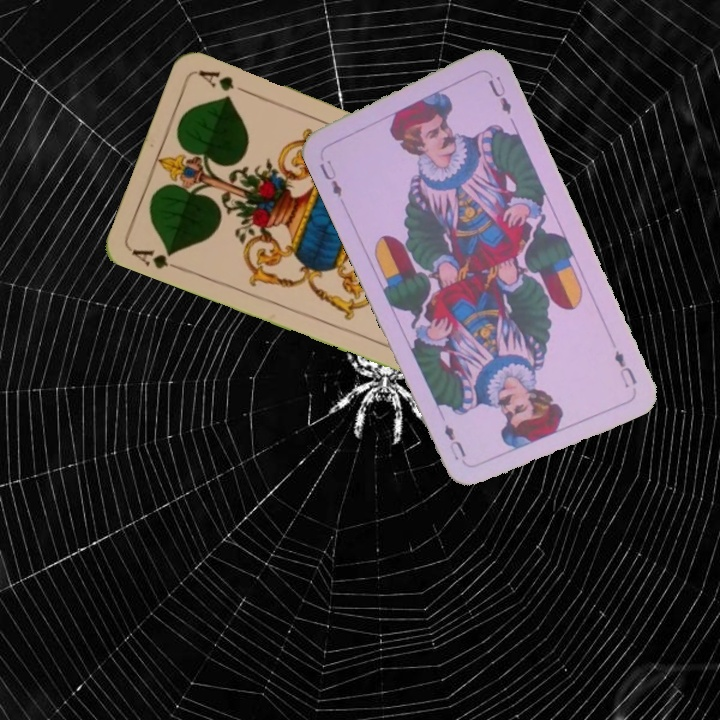EU: (315, 155, 345, 200), (610, 346, 639, 390)
GA: (127, 245, 185, 274)
